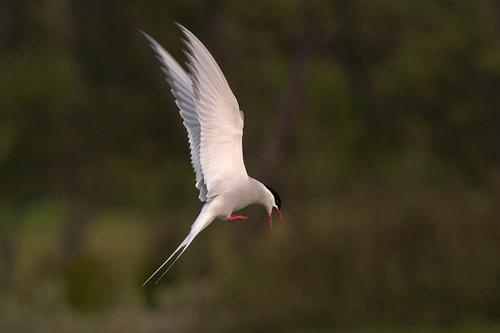bird: (135, 16, 286, 287)
